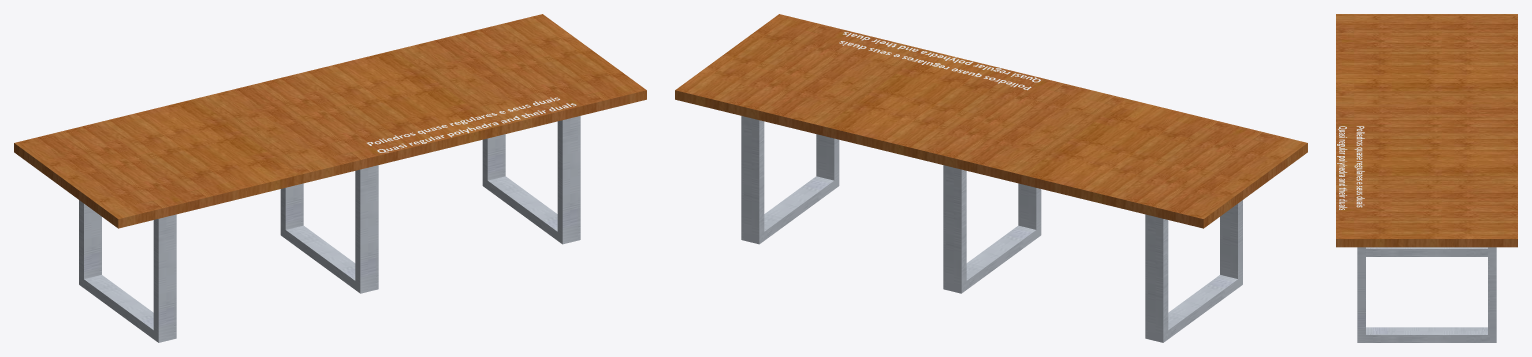
File: quasiregular4.glb
The picture shows the model from 3 angles, left to right: view 1: azimuth 30°, elevation 25°; view 2: azimuth 150°, elevation 25°; view 3: azimuth 270°, elevation 25°; orthographic projection. The views are drawn at different scales.
Visible parts, largest first — view 1: object 1, Composant#1 (×3), Poliedros quase; view 2: object 1, Composant#1 (×3), Poliedros quase; view 3: object 1, Composant#1 (×2), Poliedros quase.
Boxes of the visible parts, box(x1,y1,x2,y2) form: object 1: box(14, 14, 646, 228); Composant#1 (×3): box(79, 116, 580, 342); Poliedros quase: box(367, 97, 576, 152); object 1: box(675, 14, 1307, 228); Composant#1 (×3): box(741, 116, 1242, 342); Poliedros quase: box(839, 32, 1040, 90); object 1: box(1336, 14, 1517, 247); Composant#1 (×2): box(1357, 247, 1496, 342); Poliedros quase: box(1337, 126, 1364, 209).
Bounding box in the file's own units: 2.93 × 0.7711 × 1.
Materials: 3 (2 with a texture image).
